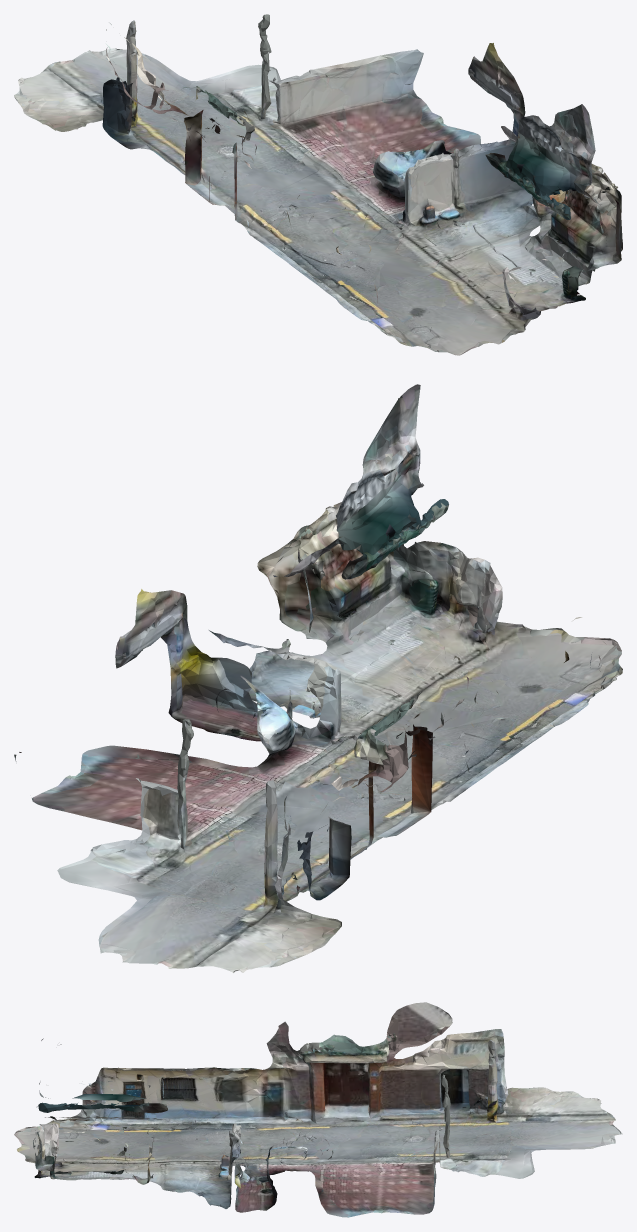
The model's file is pack-8b5b.glb.
3 renders of one model, top to bottom at view 1: azimuth 30°, elevation 25°; view 2: azimuth 150°, elevation 25°; view 3: azimuth 270°, elevation 25°, orthographic. The views are drawn at different scales.
Bounding box in the file's own units: 11.73 × 6.81 × 24.23.
Materials: 1 (1 with a texture image).
